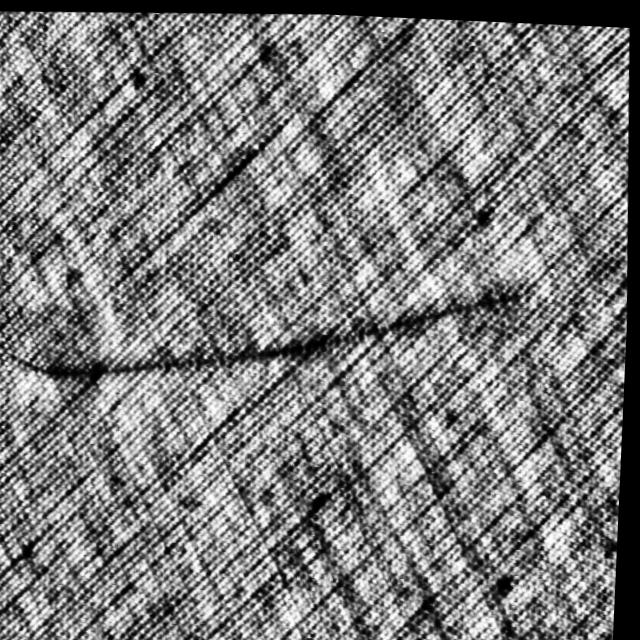Stitch: (0, 285, 171, 443)
